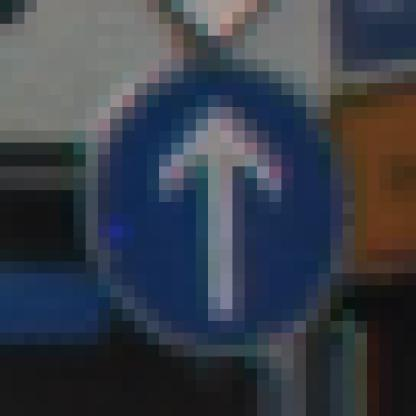AheadOnly: (74, 61, 356, 358)
